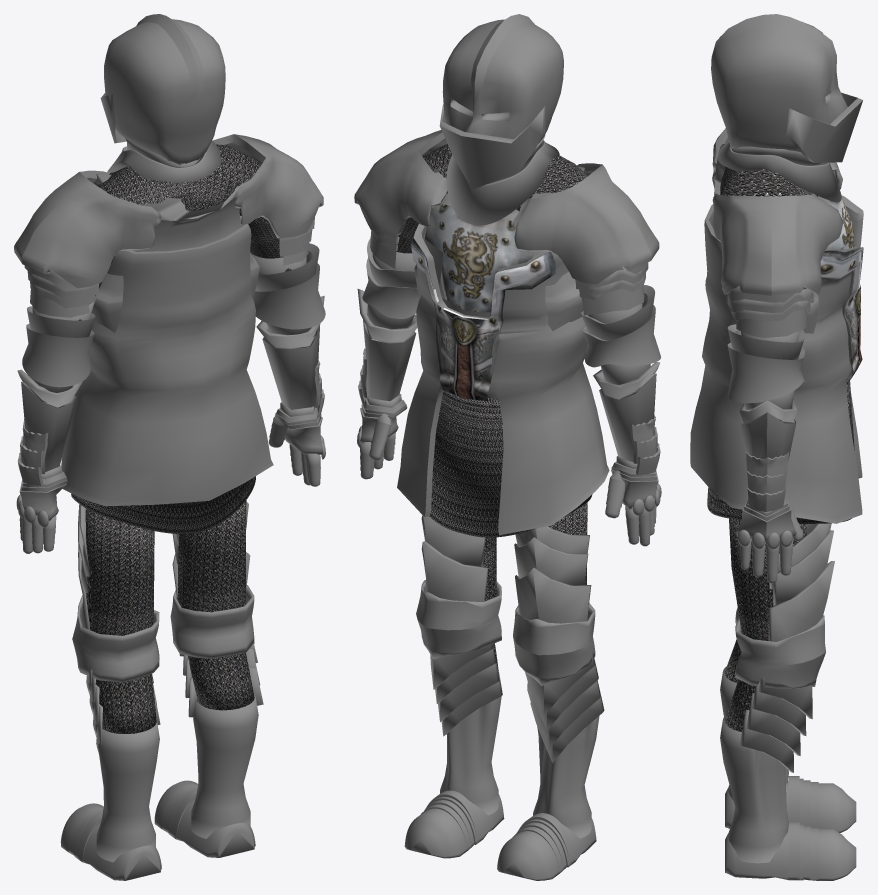
File: armor.fbx
The picture shows the model from 3 angles, left to right: view 1: azimuth 30°, elevation 25°; view 2: azimuth 150°, elevation 25°; view 3: azimuth 270°, elevation 25°; orthographic projection.
Parts seen in each view (by area): view 1: chest_piece.001, Cylinder.002, right_arm, helmet, pauldron, leg, gauntlet, Cylinder, Plane.002, chest_piece, couter, Torus.001 (+3 smaller); view 2: chest_piece.001, Cylinder.002, right_arm, Plane.002, pauldron, helmet, pant_chain_mail, chest_piece, gauntlet, Cylinder, gorget, Cylinder.001 (+4 smaller); view 3: Cylinder.002, right_arm, chest_piece.001, helmet, gorget, Cylinder.001, mouth_piece, Torus.001, chest_piece, pant_chain_mail, Cylinder, pauldron (+1 smaller).
Part boxes in pixels (box(x1,y1,x2,y2)): chest_piece.001: box(61, 215, 273, 506); Cylinder.002: box(154, 500, 263, 857); right_arm: box(212, 134, 325, 486); helmet: box(104, 14, 225, 164); pauldron: box(14, 170, 161, 317); leg: box(85, 508, 156, 733); gauntlet: box(16, 369, 82, 553); Cylinder: box(96, 719, 159, 862); Plane.002: box(72, 504, 160, 753); chest_piece: box(91, 174, 259, 332); couter: box(22, 298, 95, 387); Torus.001: box(96, 144, 260, 211); chest_piece.001: box(397, 223, 609, 535); Cylinder.002: box(404, 515, 504, 858); right_arm: box(354, 130, 447, 479); Plane.002: box(513, 526, 604, 762); pauldron: box(514, 163, 659, 315); helmet: box(442, 14, 563, 143); pant_chain_mail: box(429, 390, 592, 537); chest_piece: box(414, 166, 584, 399); gauntlet: box(593, 361, 661, 546); Cylinder: box(533, 716, 599, 838); gorget: box(446, 134, 559, 225); Cylinder.001: box(497, 813, 596, 880); Cylinder.002: box(720, 518, 856, 880); right_arm: box(712, 193, 842, 583); chest_piece.001: box(690, 195, 863, 523); helmet: box(711, 14, 847, 151); gorget: box(718, 141, 841, 202); Cylinder.001: box(725, 776, 856, 832); mouth_piece: box(786, 92, 862, 162); Torus.001: box(720, 167, 817, 196); chest_piece: box(714, 144, 853, 333); pant_chain_mail: box(707, 377, 854, 523); Cylinder: box(720, 666, 788, 800); pauldron: box(712, 128, 842, 189).
Size of the model in its own units: 269 by 696 by 131.
4 materials, 2 textured.
